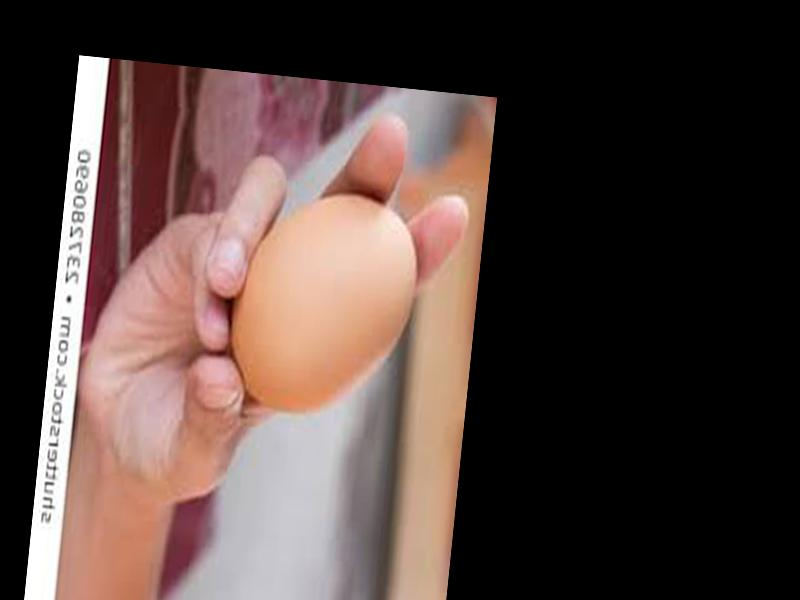Eggs: (224, 181, 423, 421)
